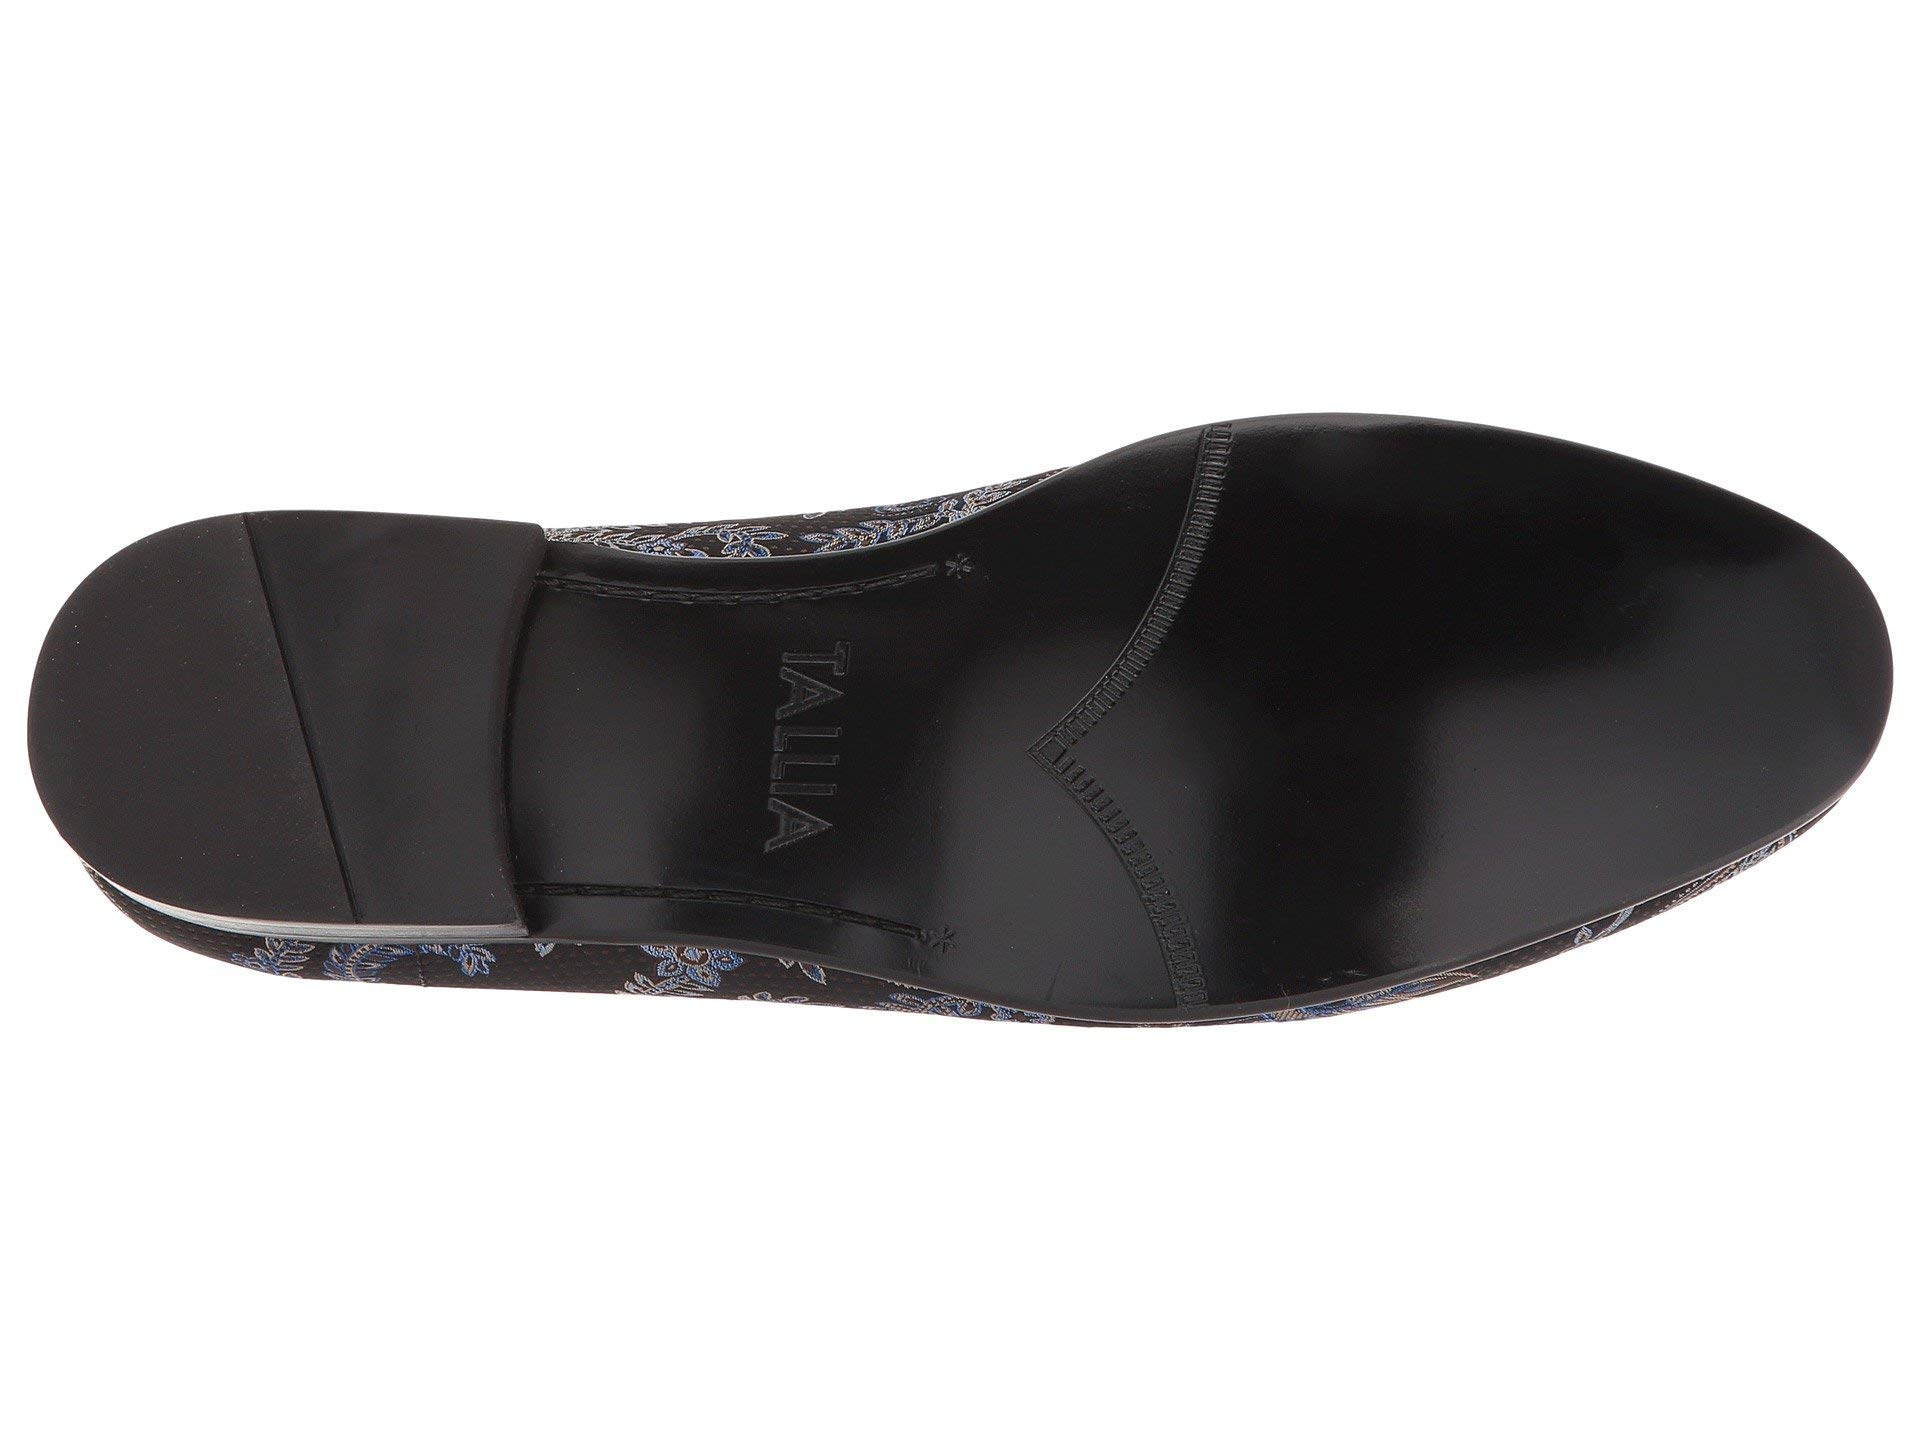line: (209, 511, 426, 923), (562, 546, 969, 611)
text: (732, 625, 887, 876)
